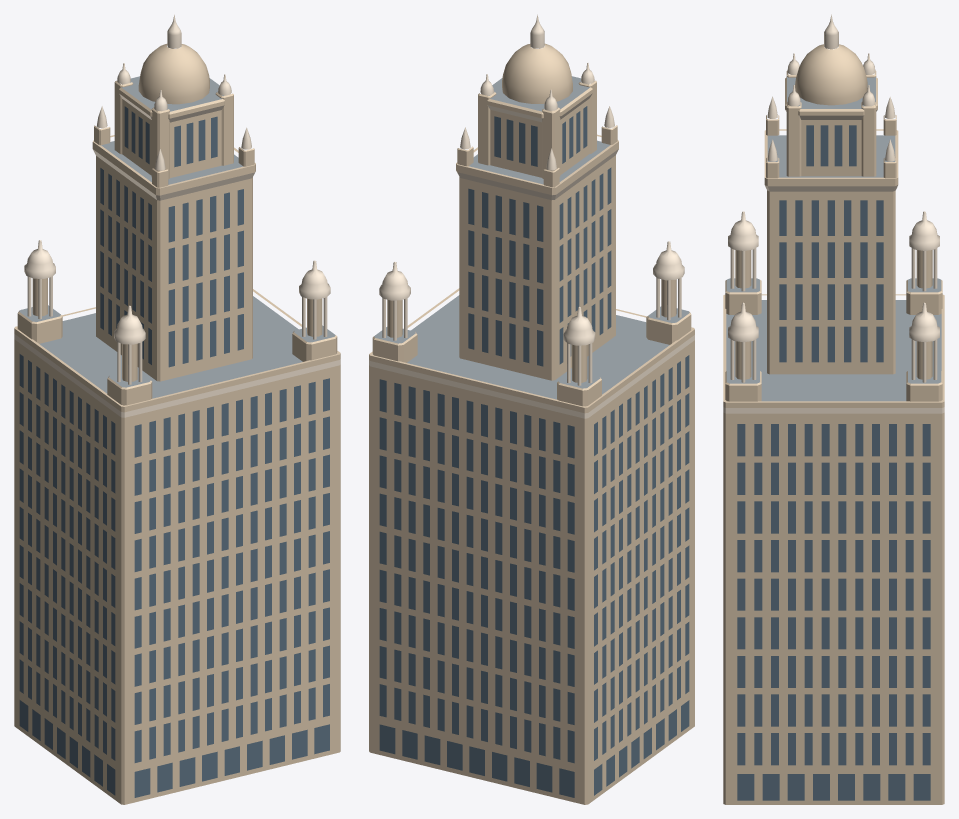
Rendered from chi-jewelers-building.glb.
3 views of the same model, side by side, from view 1: azimuth 30°, elevation 25°; view 2: azimuth 150°, elevation 25°; view 3: azimuth 270°, elevation 25° (orthographic).
Visible parts, largest first — view 1: Jewelers Building; view 2: Jewelers Building; view 3: Jewelers Building.
Part boxes in pixels (left/top/right/bottom): Jewelers Building: left=14, top=14, right=340, bottom=804; Jewelers Building: left=369, top=14, right=694, bottom=804; Jewelers Building: left=723, top=14, right=944, bottom=804.
Size of the model in its own units: 50.88 by 161 by 43.98.
